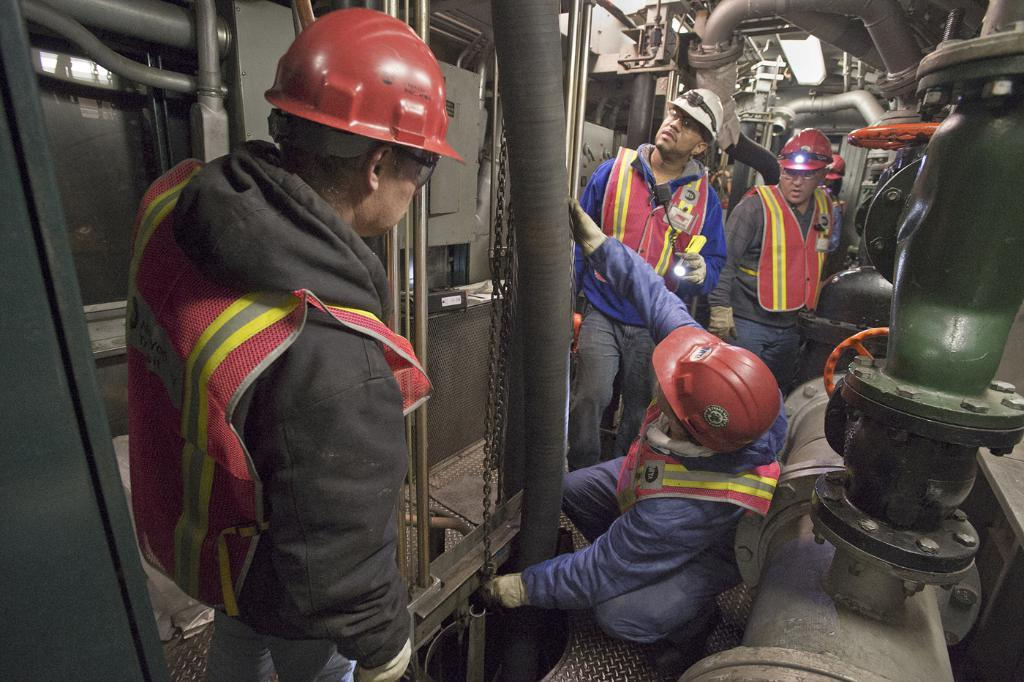helmet: (264, 7, 466, 234), (652, 326, 782, 453), (656, 88, 724, 154), (777, 127, 833, 201), (815, 154, 846, 195)
